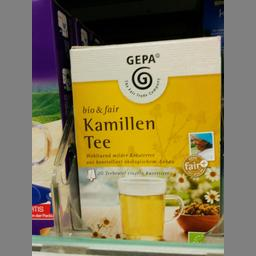tea: (66, 34, 220, 244)
